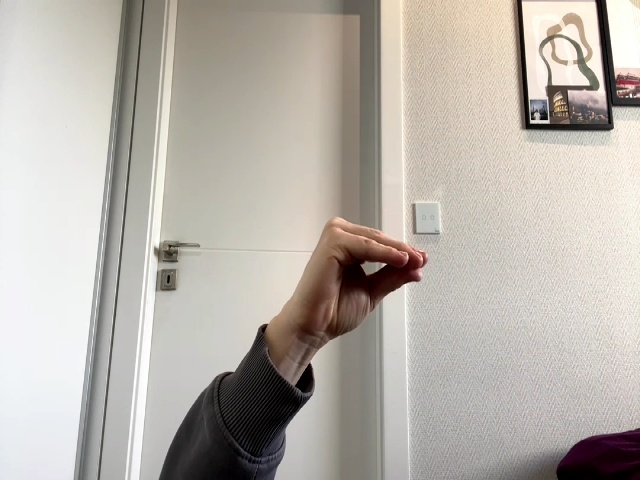E: (290, 217, 426, 326)
